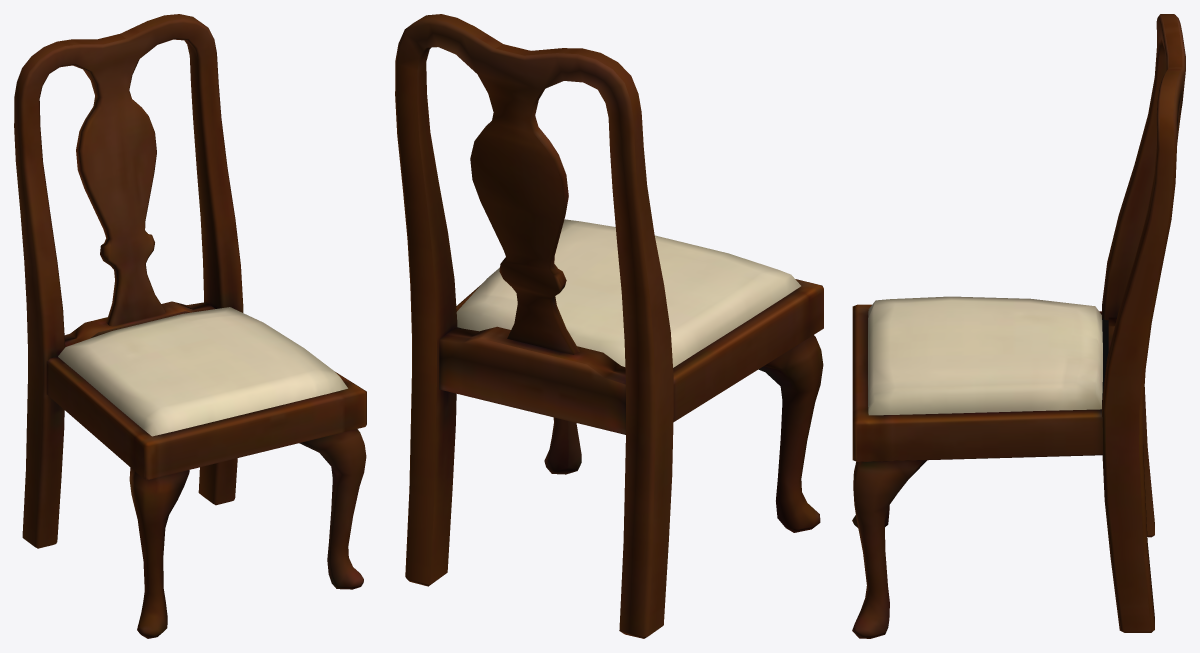
3 renders of one model, left to right at view 1: azimuth 30°, elevation 25°; view 2: azimuth 150°, elevation 25°; view 3: azimuth 270°, elevation 25°, orthographic. The views are drawn at different scales.
Size of the model in its own units: 5.94 by 12.15 by 6.92.
Materials: 1 (1 with a texture image).
